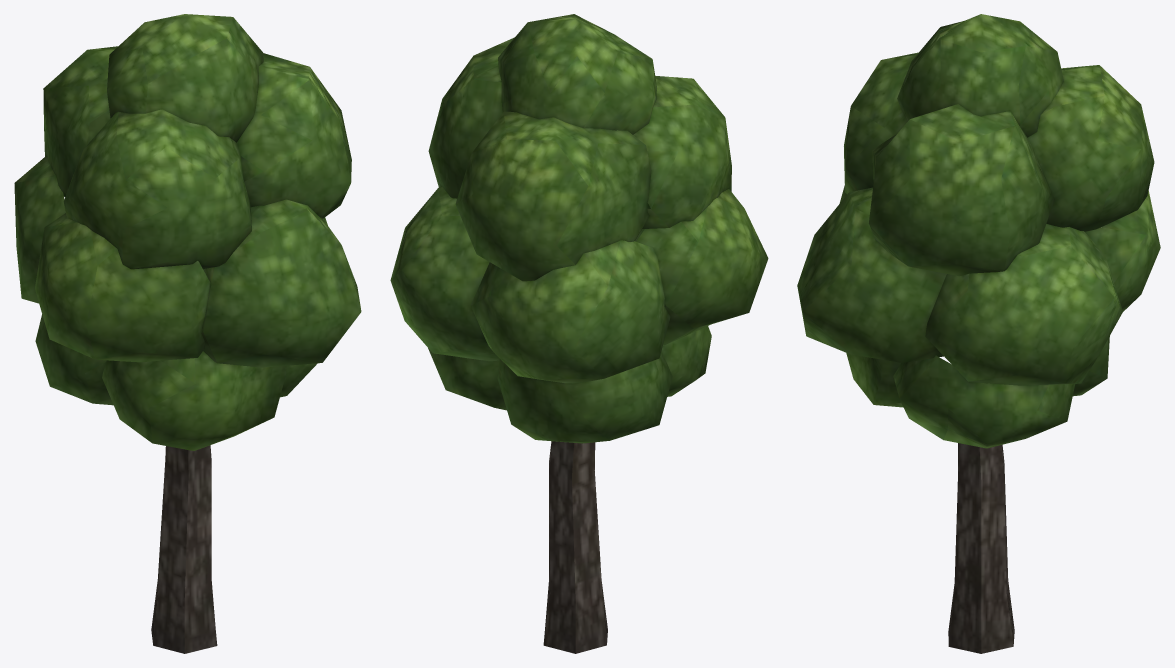
Rendered from linden.glb.
The picture shows the model from 3 angles, left to right: view 1: azimuth 30°, elevation 25°; view 2: azimuth 150°, elevation 25°; view 3: azimuth 270°, elevation 25°; orthographic projection.
Visible parts, largest first — view 1: root_mesh; view 2: root_mesh; view 3: root_mesh.
Boxes of the visible parts, x1,y1,x2,y2 form: root_mesh: [14, 14, 361, 653]; root_mesh: [390, 14, 768, 653]; root_mesh: [797, 14, 1160, 653].
Bounding box in the file's own units: 0.8051 × 1.56 × 0.8233.
1 material, 1 textured.
